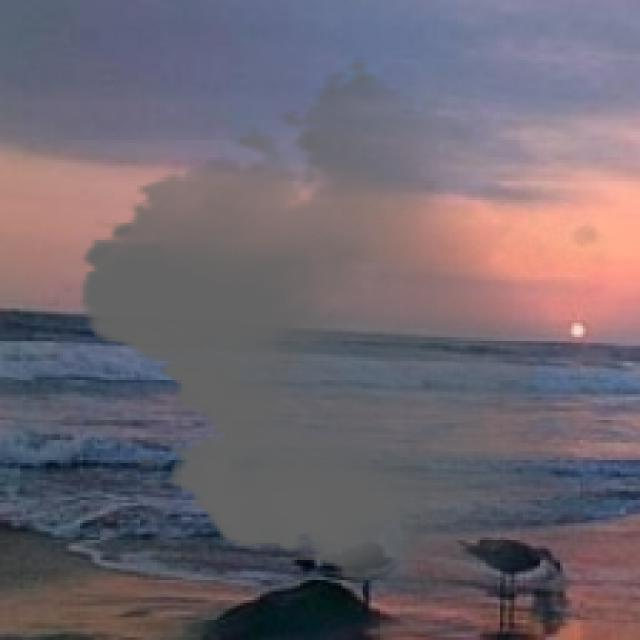smoke: (60, 57, 626, 594)
